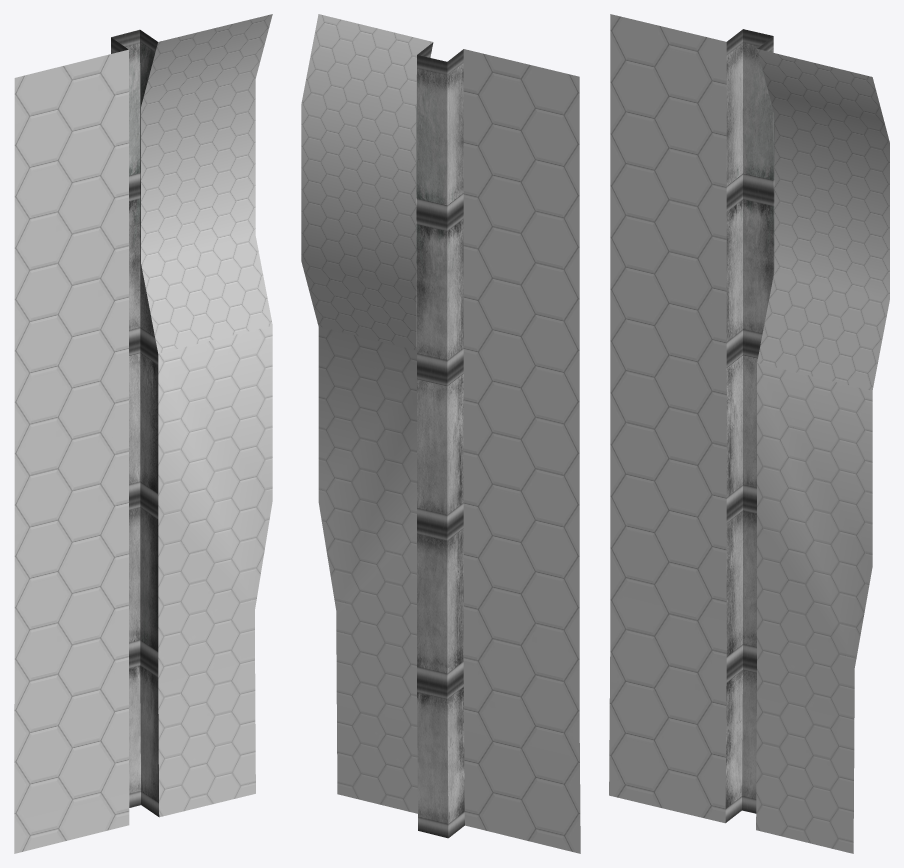
File: Wall001-3.fbx
3 views of the same model, side by side, from view 1: azimuth 30°, elevation 25°; view 2: azimuth 150°, elevation 25°; view 3: azimuth 330°, elevation 25° (orthographic).
Parts seen in each view (by area): view 1: Wall001-3; view 2: Wall001-3; view 3: Wall001-3.
Part boxes in pixels (x1,y1,x2,y2): Wall001-3: (14,14,272,853); Wall001-3: (301,14,580,853); Wall001-3: (609,14,889,853).
Size of the model in its own units: 222 by 632 by 27.55.
1 material, 1 textured.
